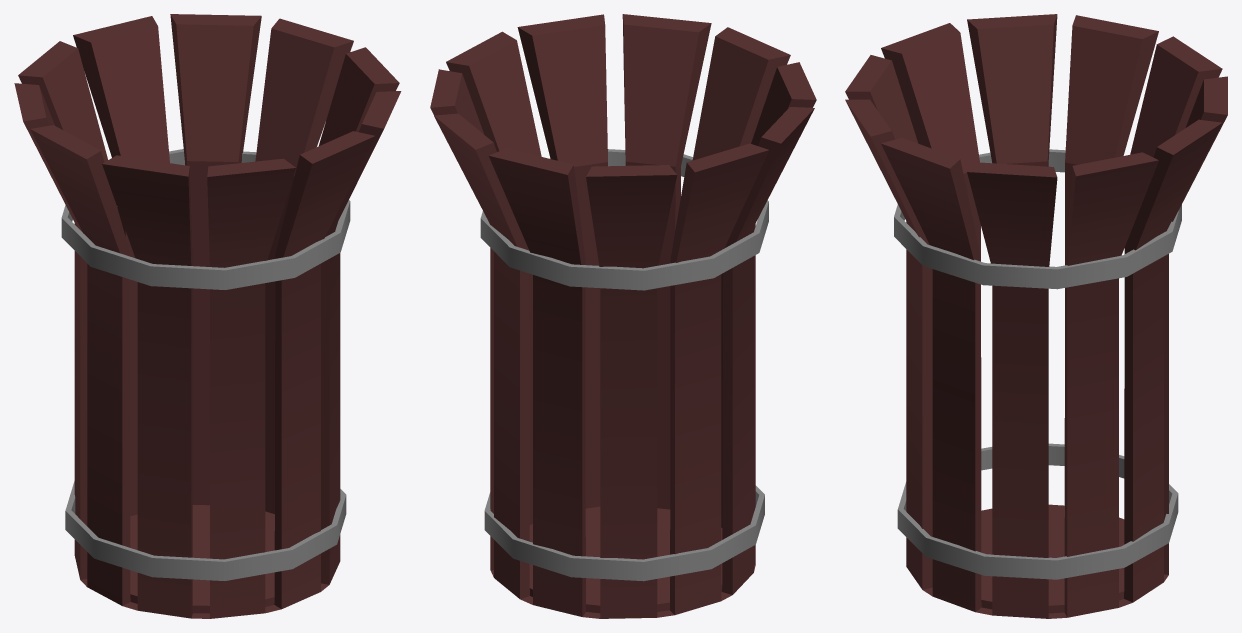
Rendered from trash can with color.fbx.
The picture shows the model from 3 angles, left to right: view 1: azimuth 30°, elevation 25°; view 2: azimuth 150°, elevation 25°; view 3: azimuth 270°, elevation 25°; orthographic projection.
Parts seen in each view (by area): view 1: bin, ring top, ring bottom; view 2: bin, ring top, ring bottom; view 3: bin, ring bottom, ring top.
Part boxes in pixels (<box>): bin: <box>14,14,401,618</box>; ring top: <box>61,149,350,289</box>; ring bottom: <box>65,481,346,580</box>; bin: <box>430,14,816,618</box>; ring top: <box>480,149,768,290</box>; ring bottom: <box>484,485,764,581</box>; bin: <box>845,14,1227,618</box>; ring bottom: <box>897,443,1178,579</box>; ring top: <box>894,149,1181,289</box>.
Bounding box in the file's own units: 69.8 × 92.99 × 69.09.
